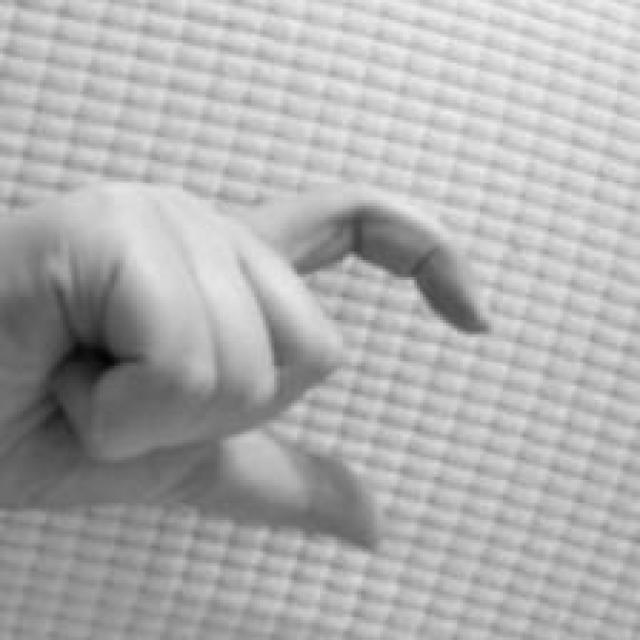C: (1, 172, 496, 555)
